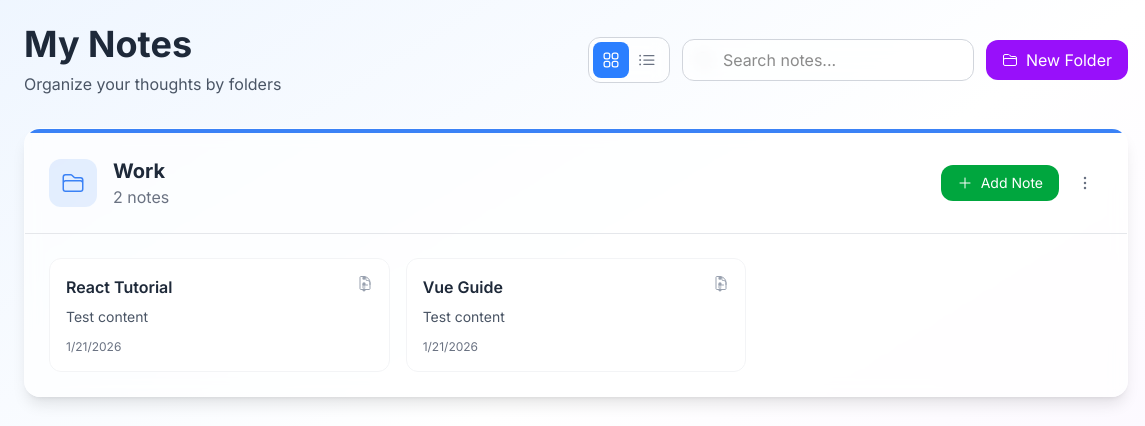
Test: Notes Page › Search Functionality › filters notes by title
Type "React" into the field with placeholder "Search notes..." at (828, 60), box [682,39,974,81]
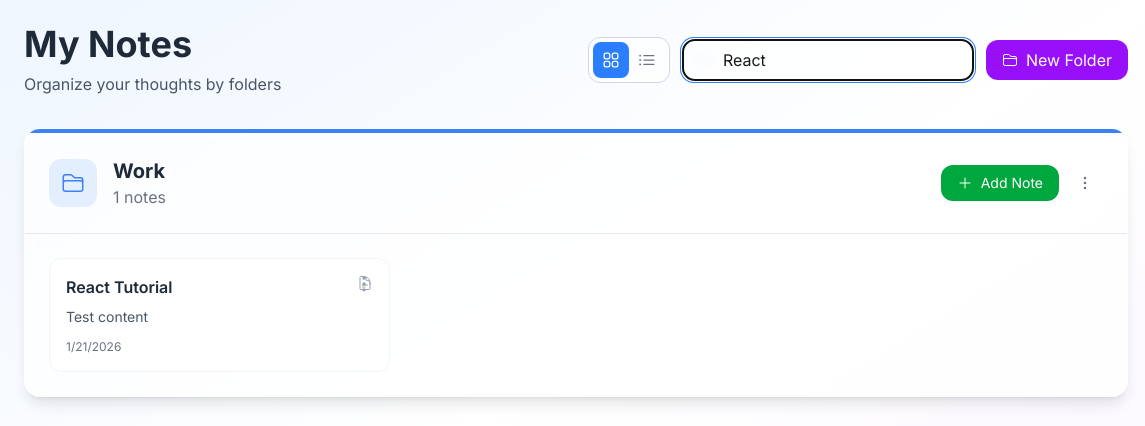
Expected: the heading "React Tutorial" is shown, [66,277,172,297]
Now the link "Vue Guide" is gone
